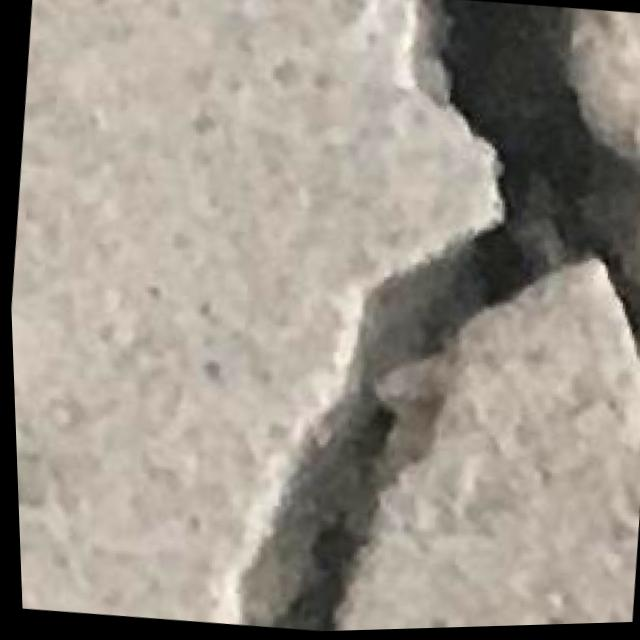Crack: (203, 0, 640, 635)
